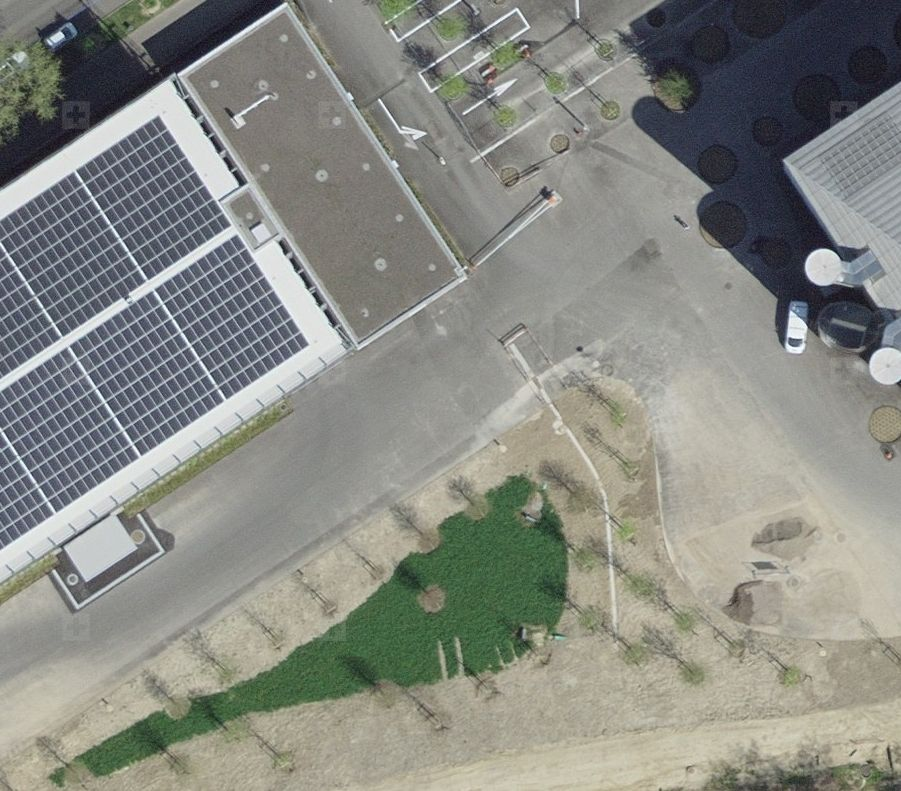solar: (1, 114, 309, 554)
